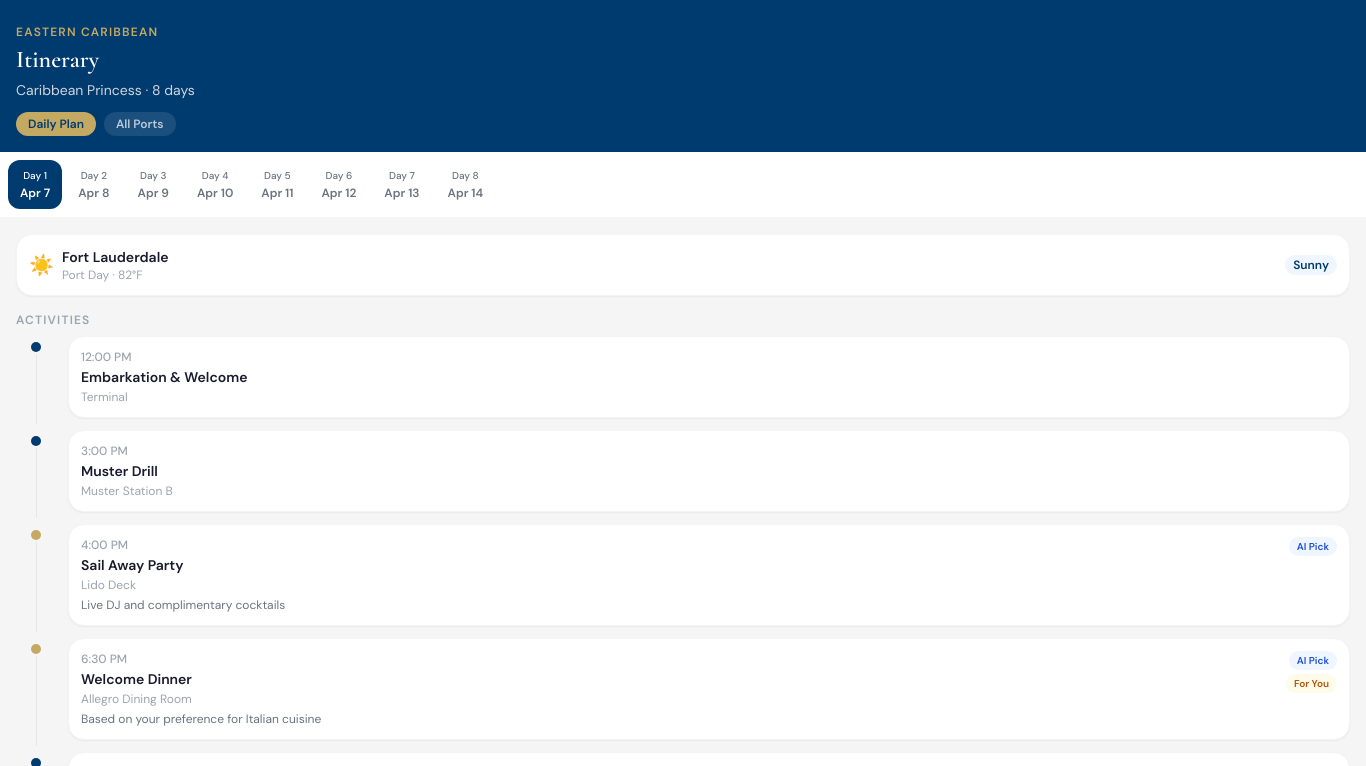
ItineraryPage › switches to day 4 and shows San Juan activities
The width and height of the screenshot is (1366, 766).
Click the text "Day 4" at (215, 176), box [202,168,228,183]
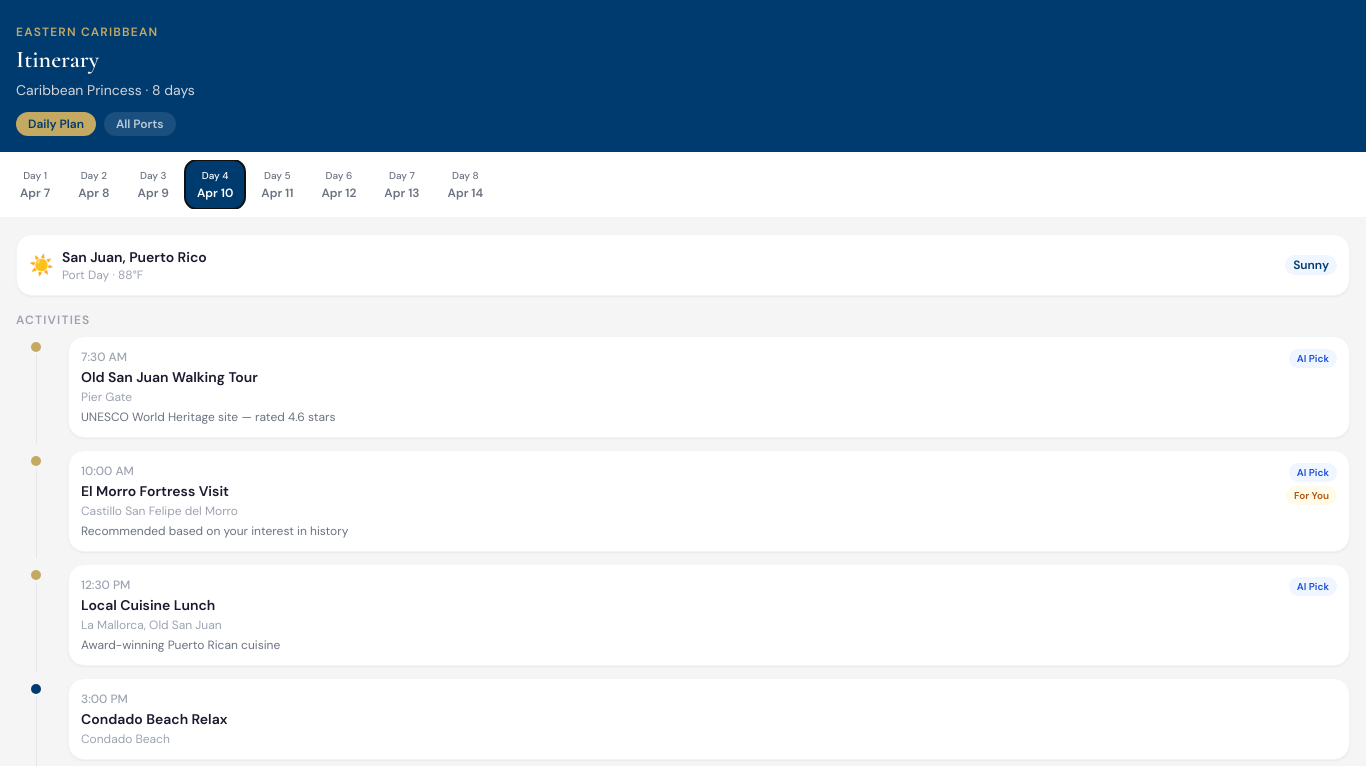
Expected: the text "Old San Juan Walking Tour" is shown, [81,368,258,386]
Expected: the text "El Morro Fortress Visit" is shown, [81,482,229,500]
